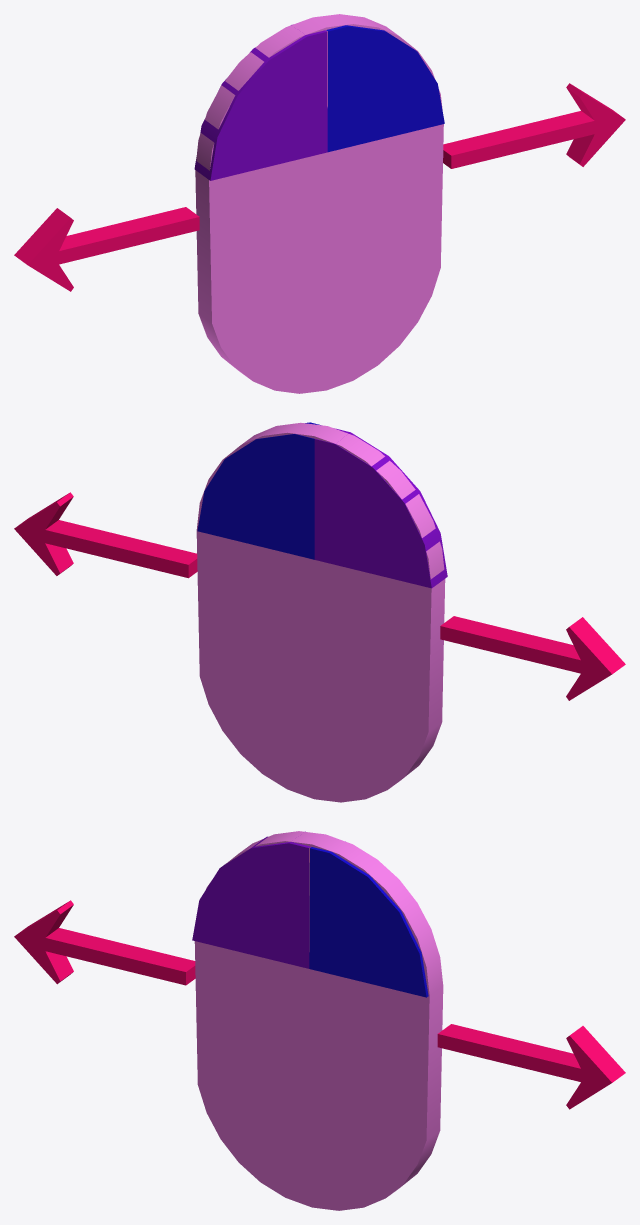
The model's file is SynopMouse.FBX.
The picture shows the model from 3 angles, top to bottom: view 1: azimuth 30°, elevation 25°; view 2: azimuth 150°, elevation 25°; view 3: azimuth 330°, elevation 25°; orthographic projection.
Visible parts, largest first — view 1: Circle001, Cylinder001, Cylinder002, Text018, Text005; view 2: Circle001, Cylinder001, Cylinder002, Text005, Text018; view 3: Circle001, Cylinder002, Cylinder001, Text005, Text018.
Boxes of the visible parts, box(x1,y1,x2,y2) form: Circle001: box(195, 14, 443, 393); Cylinder001: box(194, 25, 327, 180); Cylinder002: box(326, 25, 444, 152); Text018: box(14, 207, 199, 291); Text005: box(443, 83, 625, 168); Circle001: box(196, 422, 445, 802); Cylinder001: box(314, 428, 447, 588); Cylinder002: box(197, 422, 320, 559); Text005: box(14, 492, 197, 578); Text018: box(440, 616, 625, 700); Circle001: box(194, 831, 443, 1210); Cylinder002: box(309, 847, 428, 997); Cylinder001: box(192, 831, 310, 968); Text005: box(437, 1024, 625, 1109); Text018: box(14, 900, 195, 985).
Bounding box in the file's own units: 253 × 147 × 11.66.
